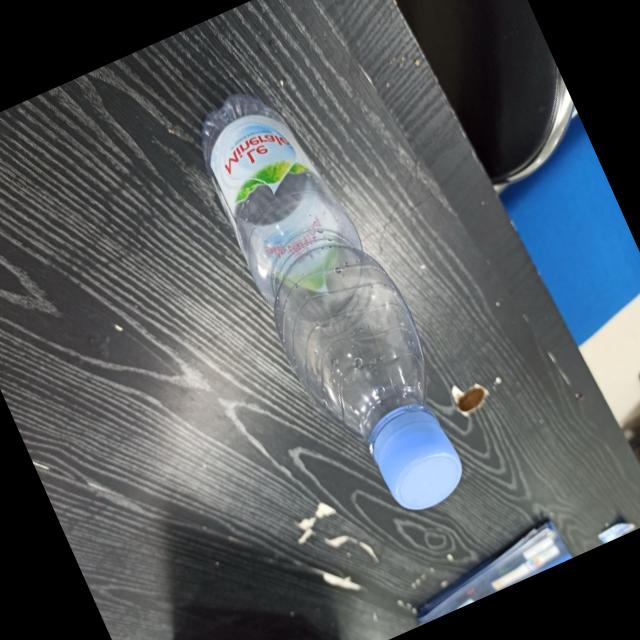BotolPlastik: (178, 64, 488, 538)
